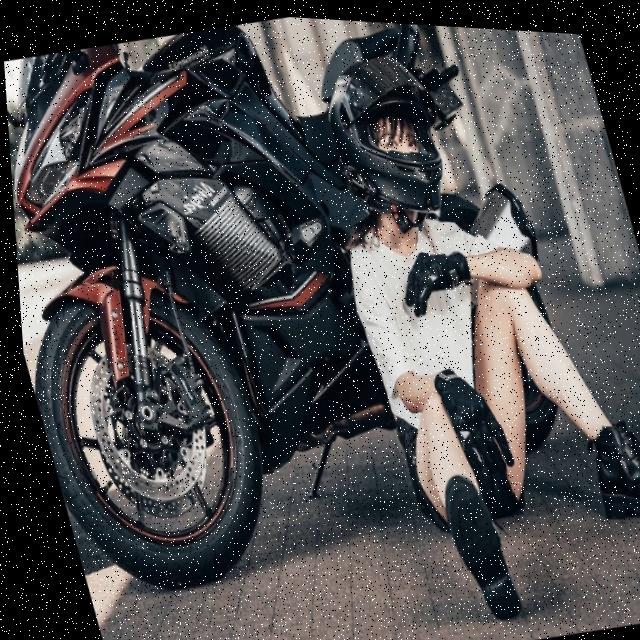helmet: (304, 30, 473, 248)
